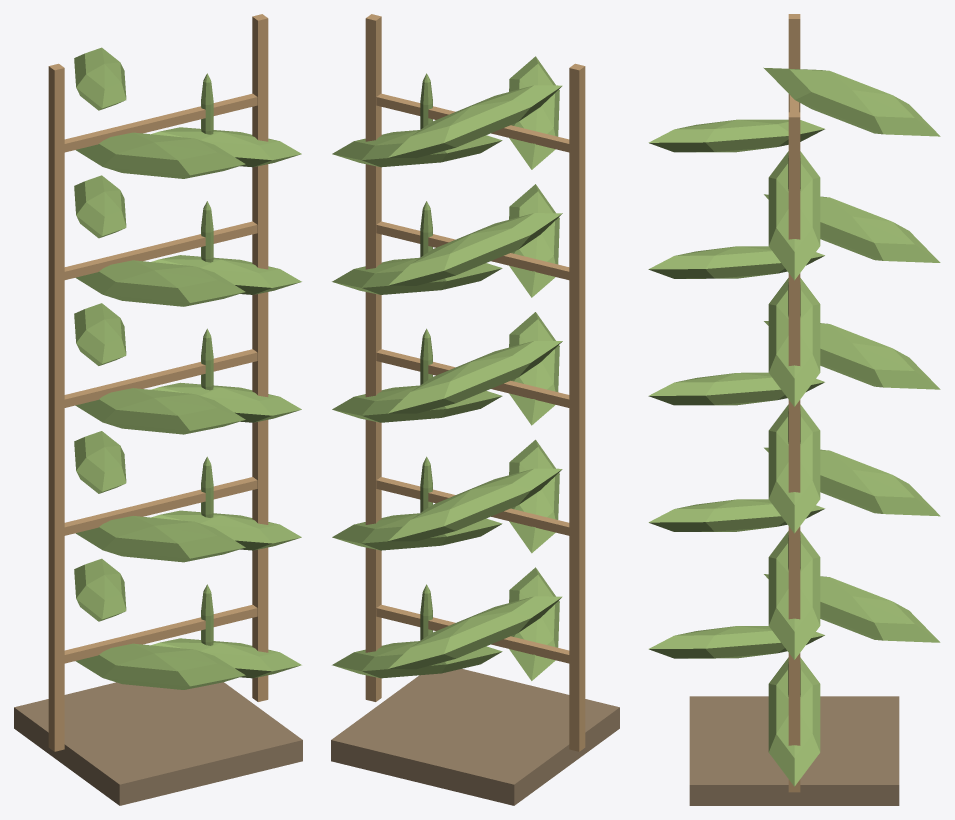
File: cozy-farm-and-homestead-climbing-bean-mature-49c1b7ef__19387.glb
3 views of the same model, side by side, from view 1: azimuth 30°, elevation 25°; view 2: azimuth 150°, elevation 25°; view 3: azimuth 270°, elevation 25° (orthographic).
Parts seen in each view (by area): view 1: climbing-bean-mature; view 2: climbing-bean-mature; view 3: climbing-bean-mature.
Part boxes in pixels (box(x1,y1,x2,y2)): climbing-bean-mature: box(14, 14, 302, 805); climbing-bean-mature: box(331, 14, 619, 805); climbing-bean-mature: box(648, 14, 940, 805).
Bounding box in the file's own units: 0.6157 × 1.65 × 0.6287.
